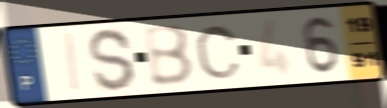4: (255, 17, 294, 80)
6: (300, 14, 342, 76)
B: (140, 22, 197, 89)
C: (193, 24, 244, 81)
I: (64, 30, 84, 95)
S: (86, 26, 139, 94)
